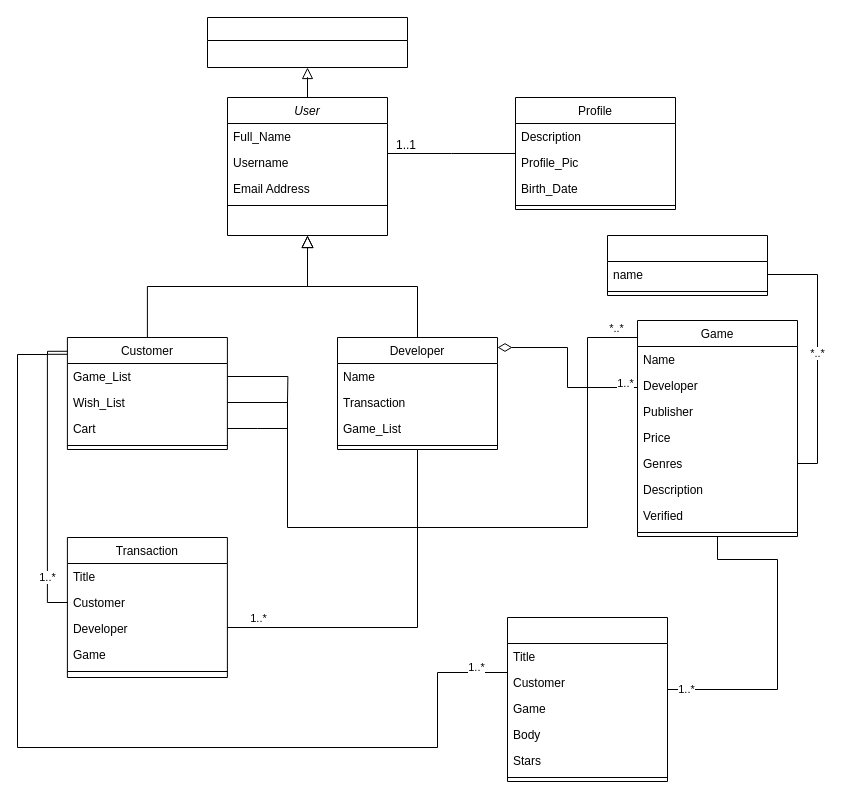
The diagram is 842 pixels wide and 799 high, and some of its shapes have lost their labels. Each missing label, with the box of its shape:
AbstractUser: (206, 16, 408, 68)
Genre: (606, 234, 768, 296)
Review: (506, 616, 668, 782)
